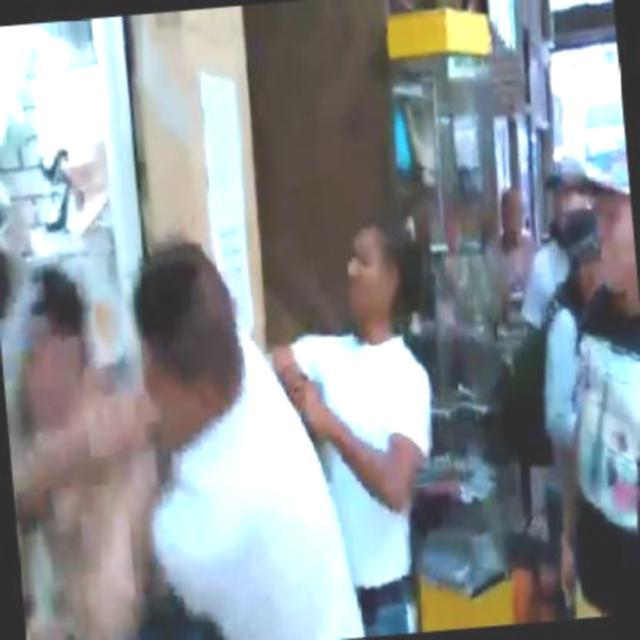fight: (0, 236, 360, 638)
